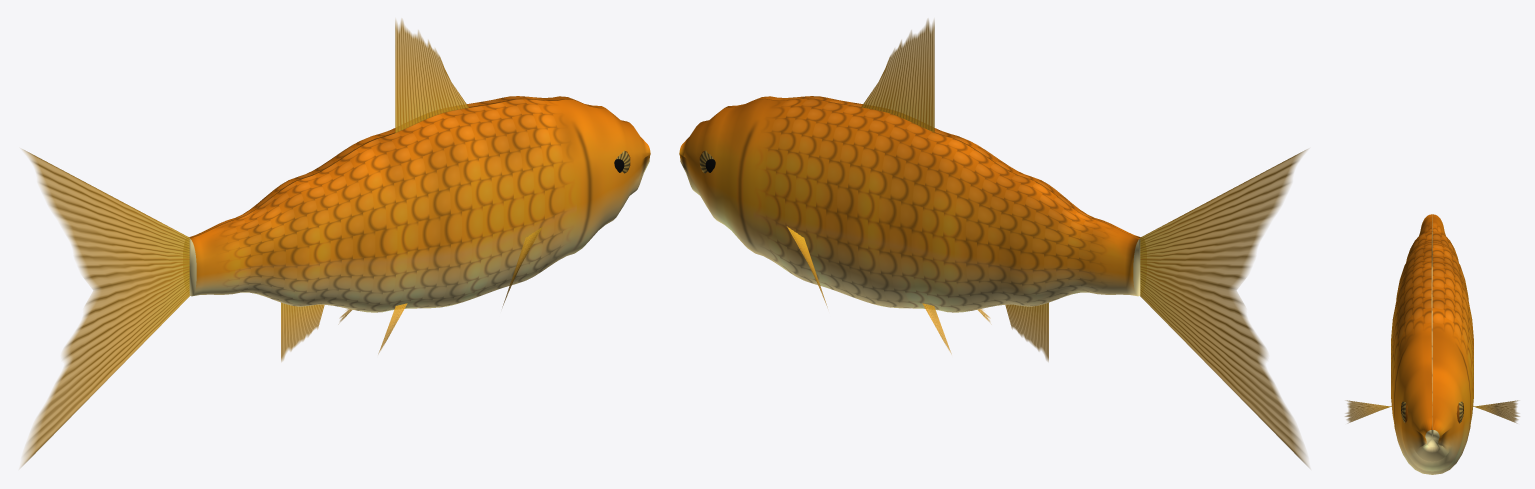
File: oltin.glb
The picture shows the model from 3 angles, left to right: view 1: azimuth 30°, elevation 25°; view 2: azimuth 150°, elevation 25°; view 3: azimuth 270°, elevation 25°; orthographic projection. The views are drawn at different scales.
Parts seen in each view (by area): view 1: oltin; view 2: oltin; view 3: oltin.
Part boxes in pixels (left/top/right/bottom): oltin: left=21, top=19, right=650, bottom=466; oltin: left=679, top=19, right=1308, bottom=466; oltin: left=1345, top=214, right=1519, bottom=474.
Bounding box in the file's own units: 0.3045 × 0.1694 × 0.0816.
Materials: 1 (1 with a texture image).
